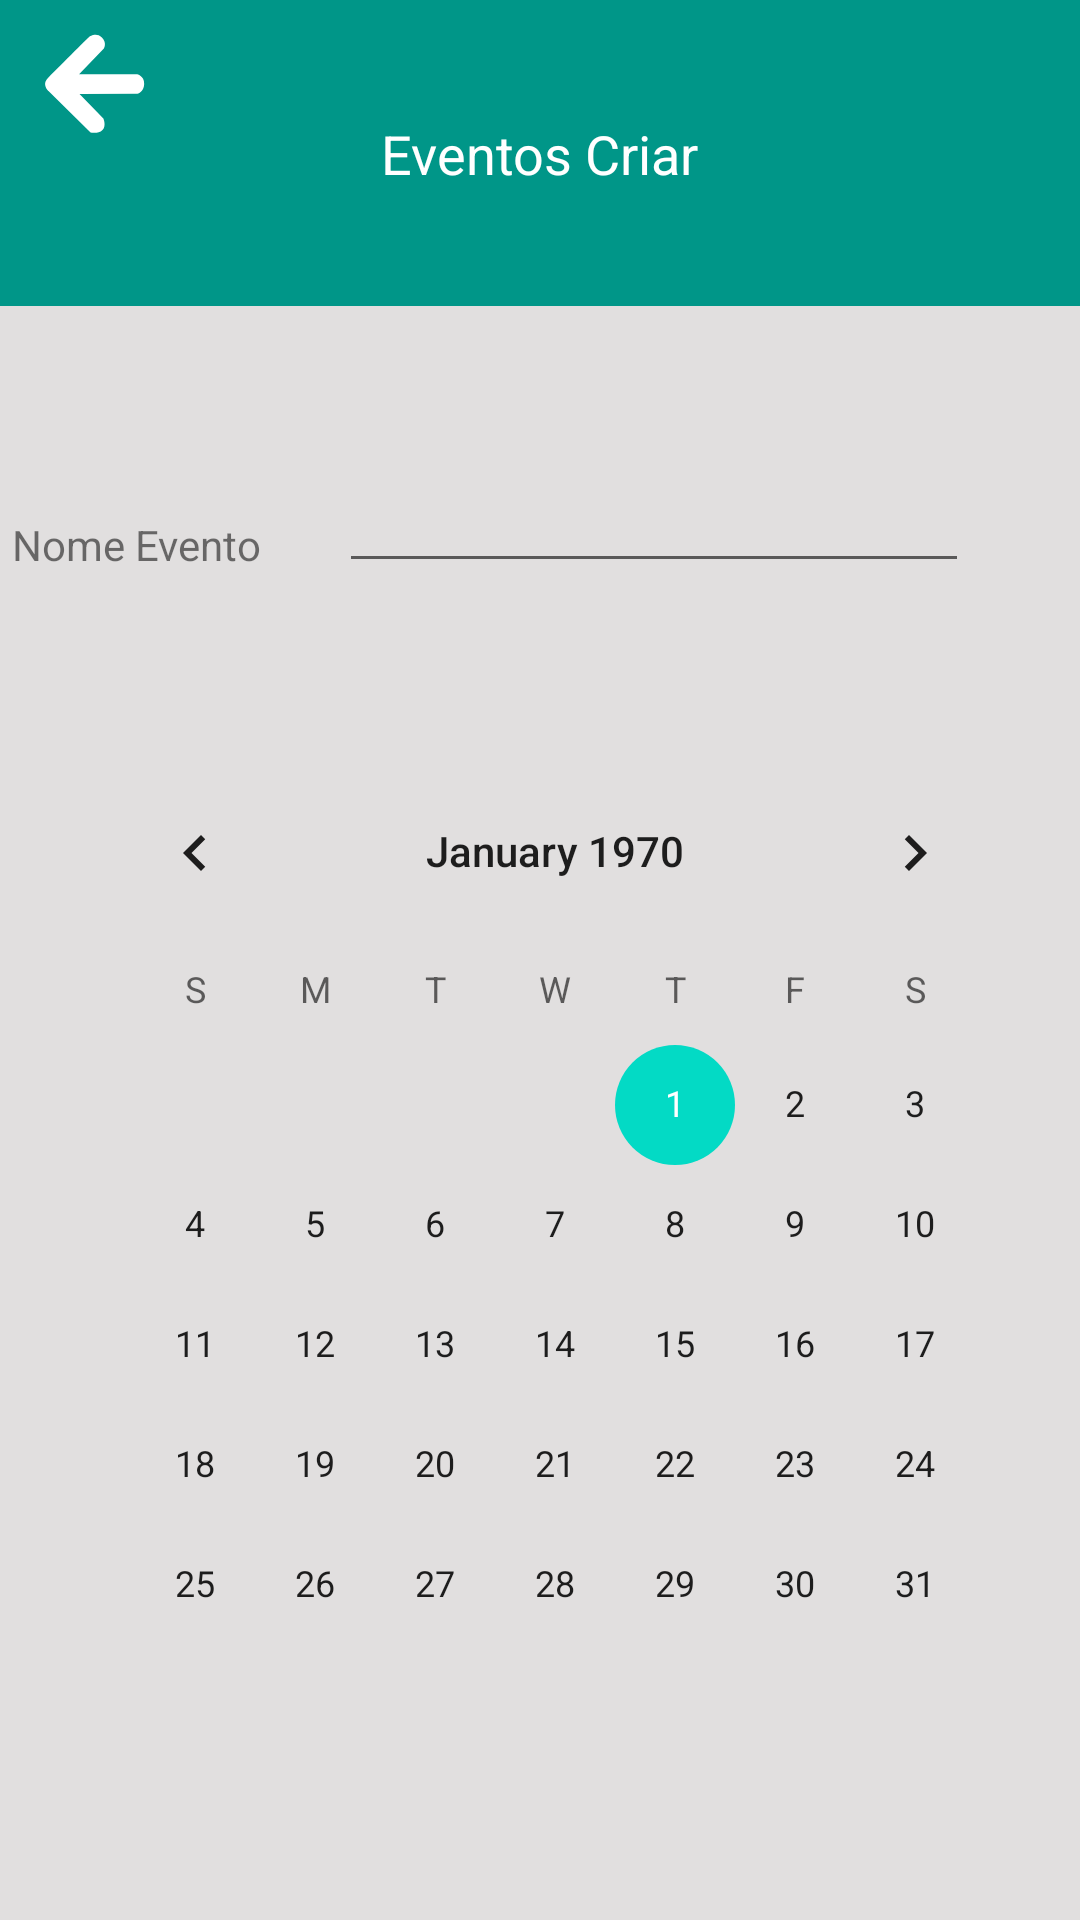

Where to tap for icons on this 1080 x 1920 app screen, as (x,y):
seta: (95,83)
